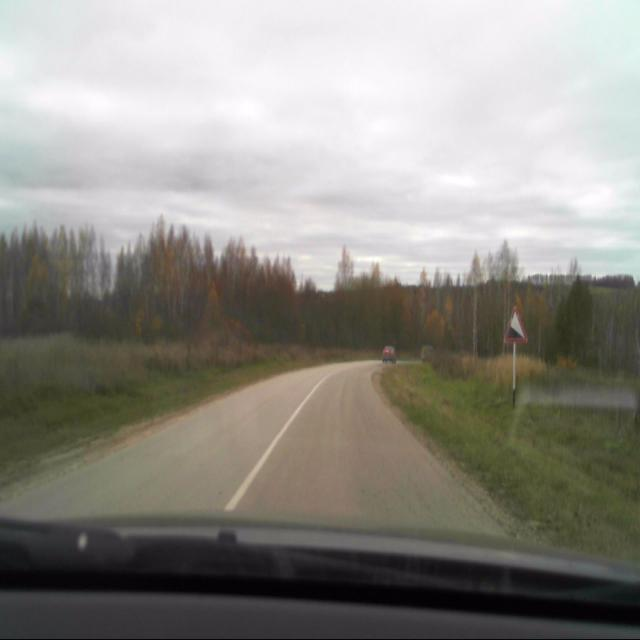object: (511, 346, 517, 412)
road sign: (500, 306, 527, 344)
